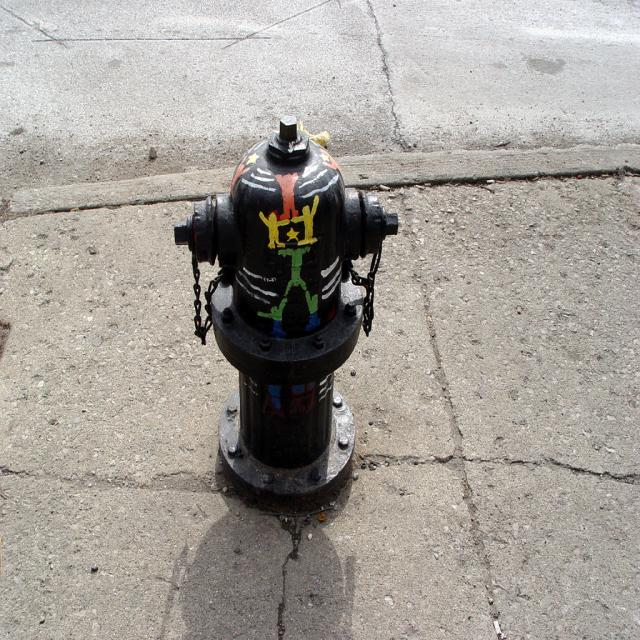fire_hydrant: (174, 114, 400, 514)
